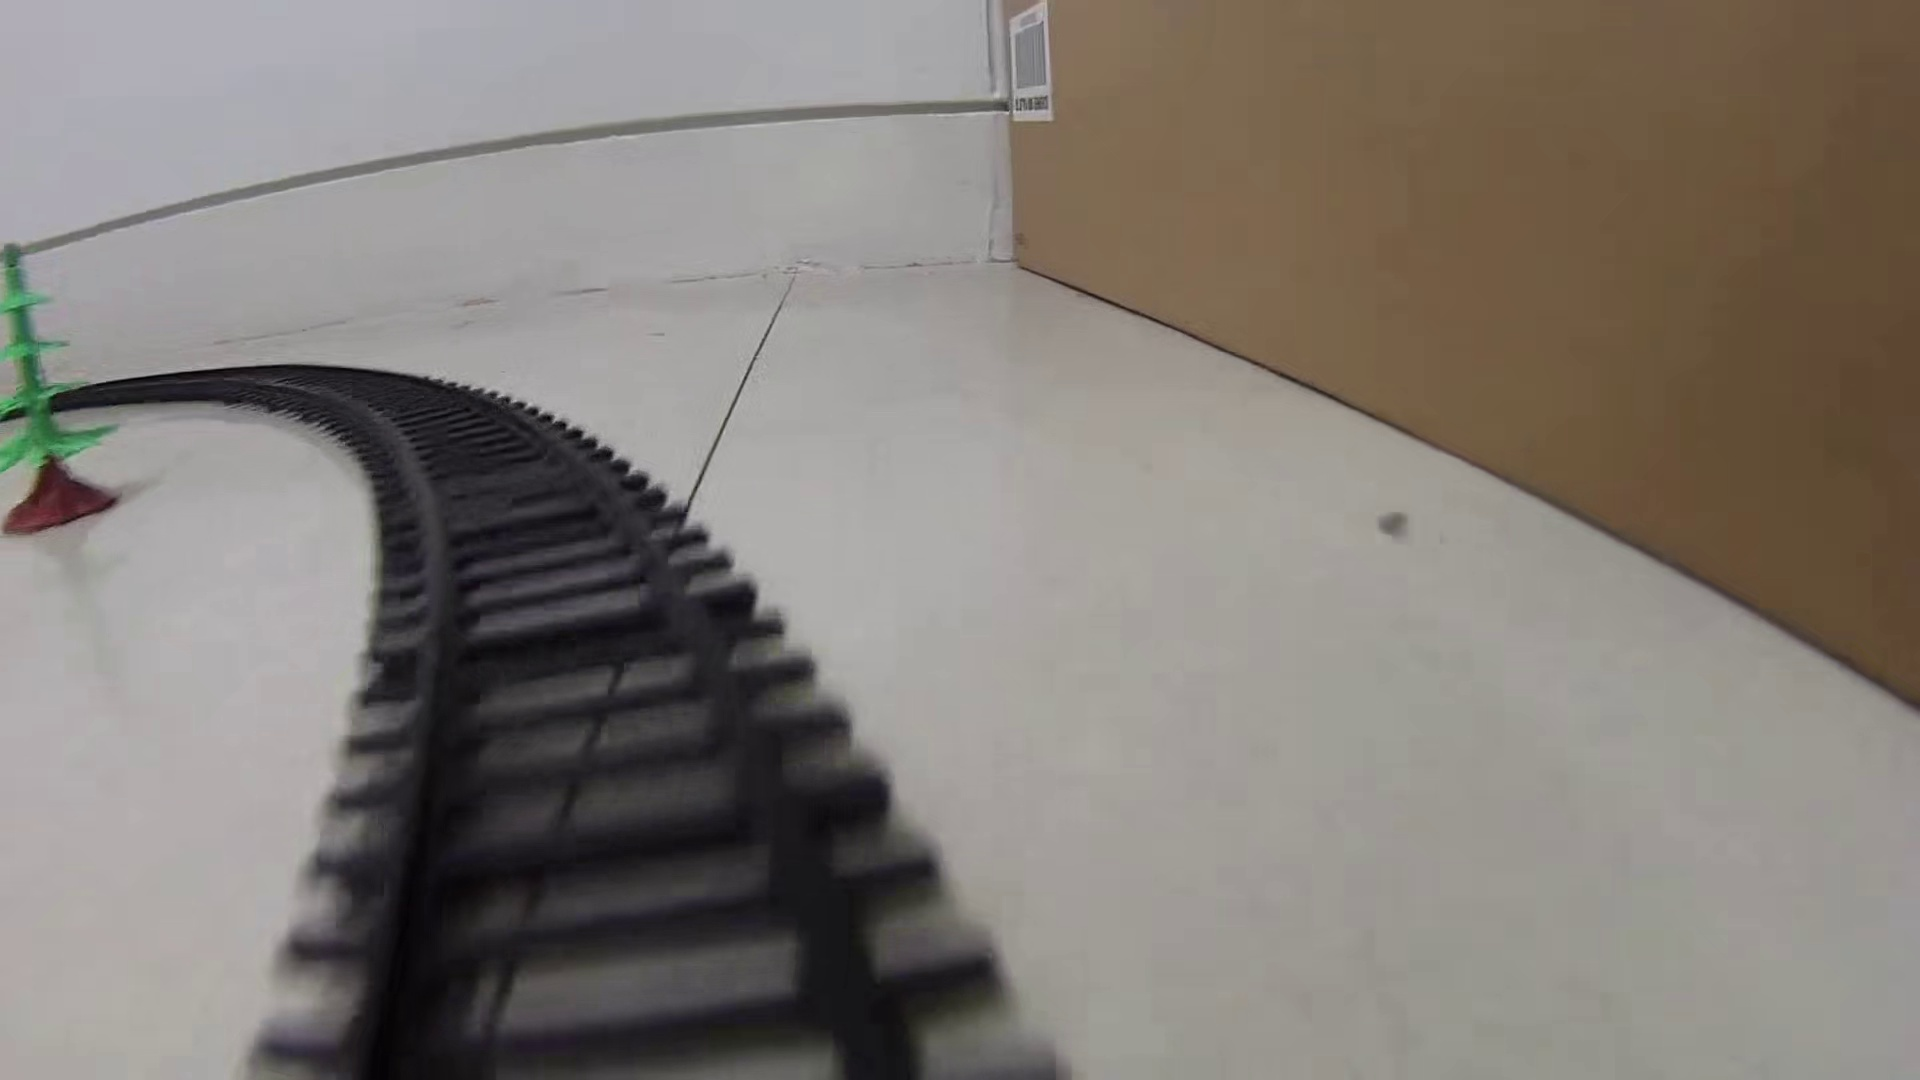tree: (1, 239, 126, 536)
